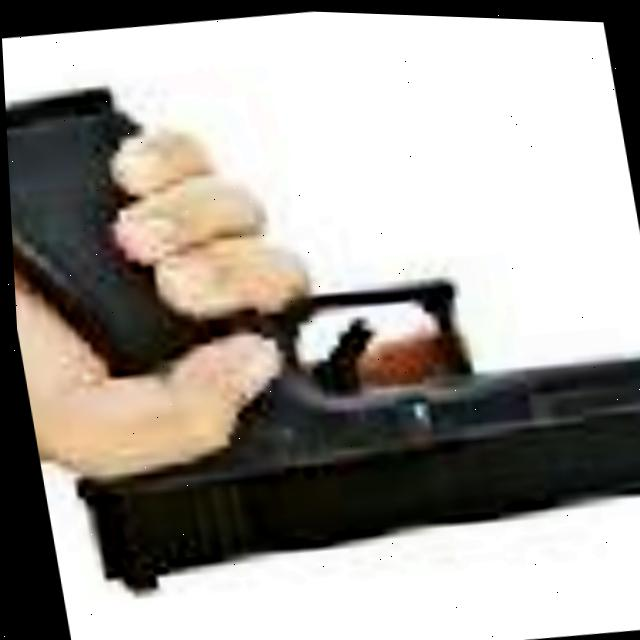pistol: (0, 0, 640, 640), (4, 86, 640, 586)
